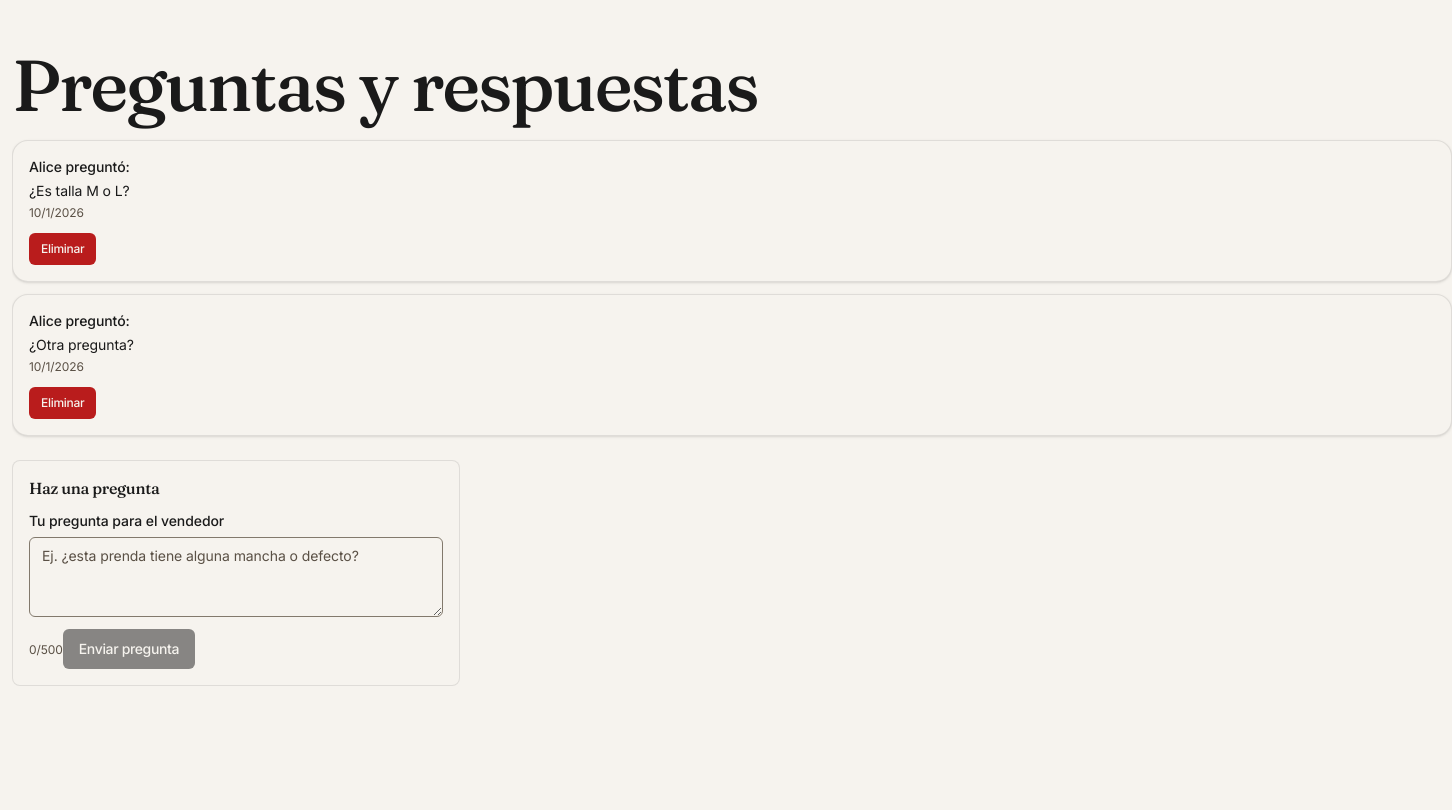
ProductQuestions › no deshabilita el botón de eliminar de una pregunta distinta mientras otra se está eliminando
Click the button "Eliminar" below "¿Es talla M o L?". click: (63, 249)
box: x1=29 y1=233 x2=96 y2=265
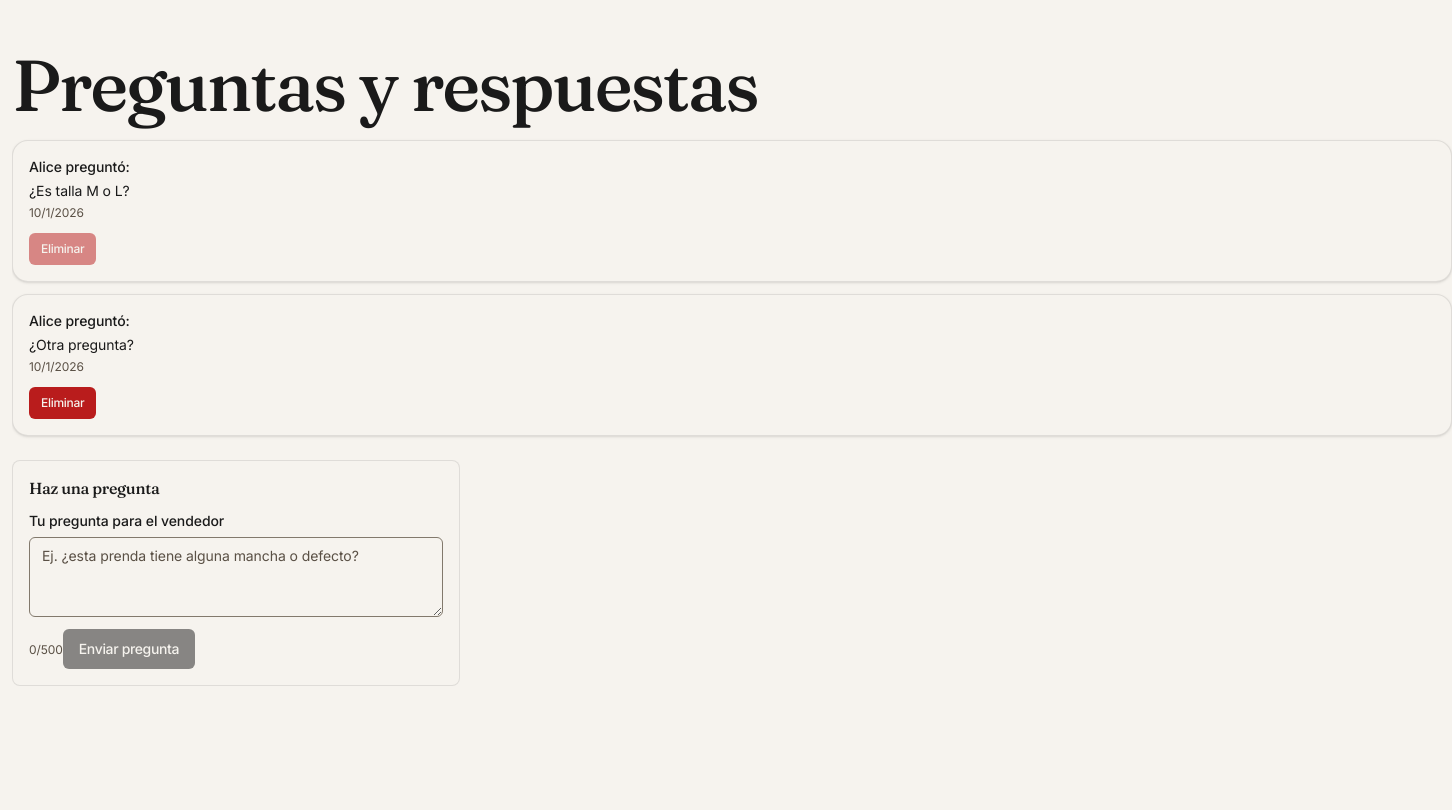
Expected: the button "Eliminar" below "¿Otra pregunta?" is enabled, x1=29 y1=387 x2=96 y2=419
Result: the button "Eliminar" below "¿Es talla M o L?" is disabled at x1=29 y1=233 x2=96 y2=265
